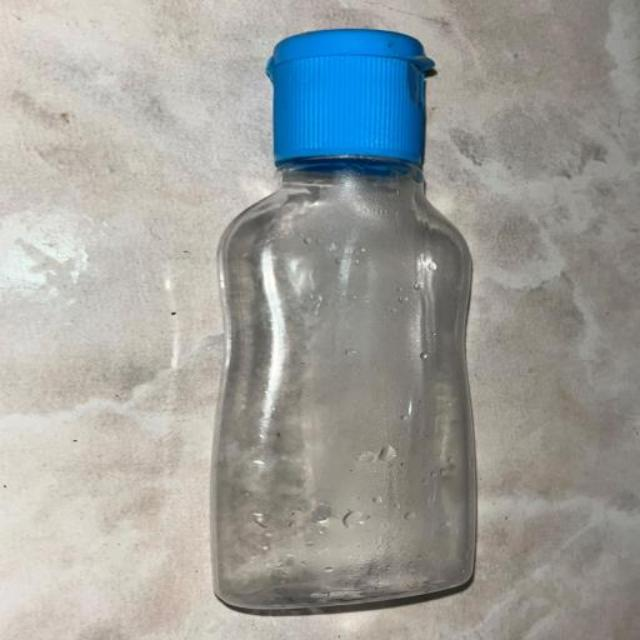PET: (135, 40, 588, 616)
